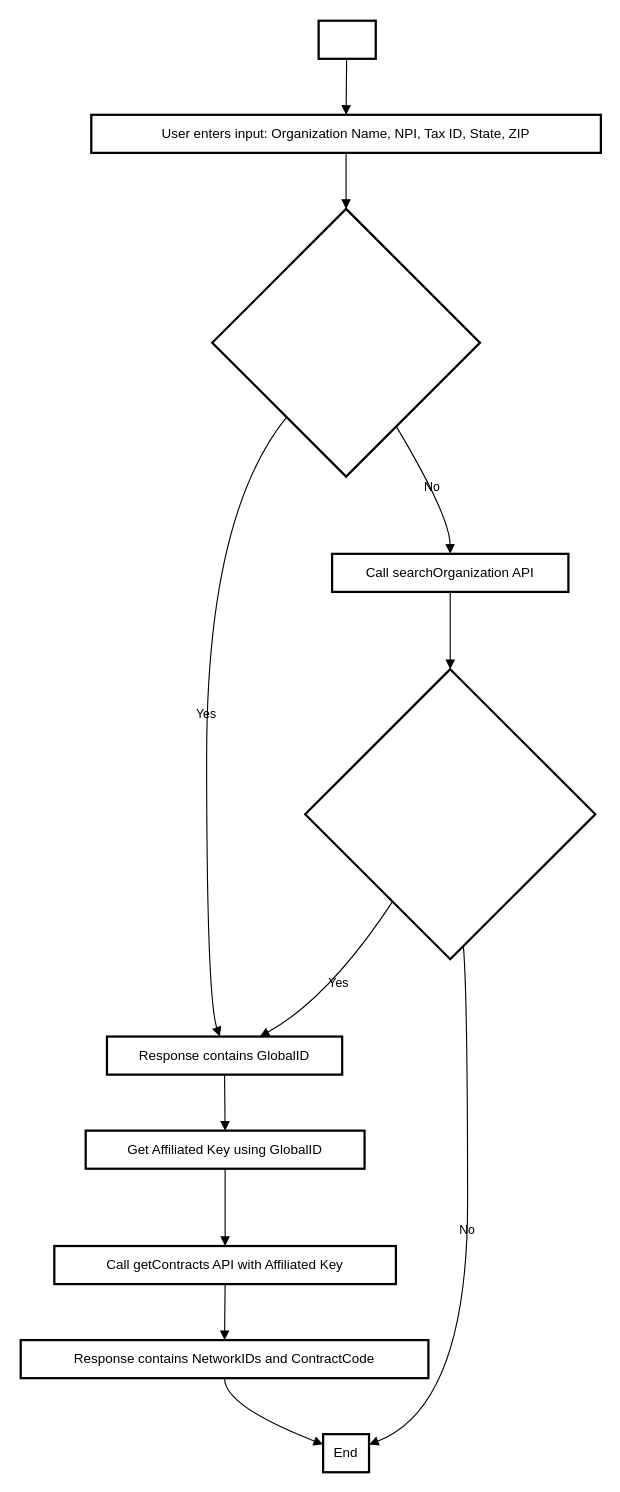
The diagram is 620 pixels wide and 1492 high, and some of its shapes have lost their labels. The shapes that lost their labels are listed below. From the top down, each one's box as (x1, y1, x2, y2) in pixels, then its label:
(317, 19, 376, 59): Start
(211, 207, 480, 477): Call searchPractitioner API
(304, 668, 596, 960): Found in searchOrganization?
